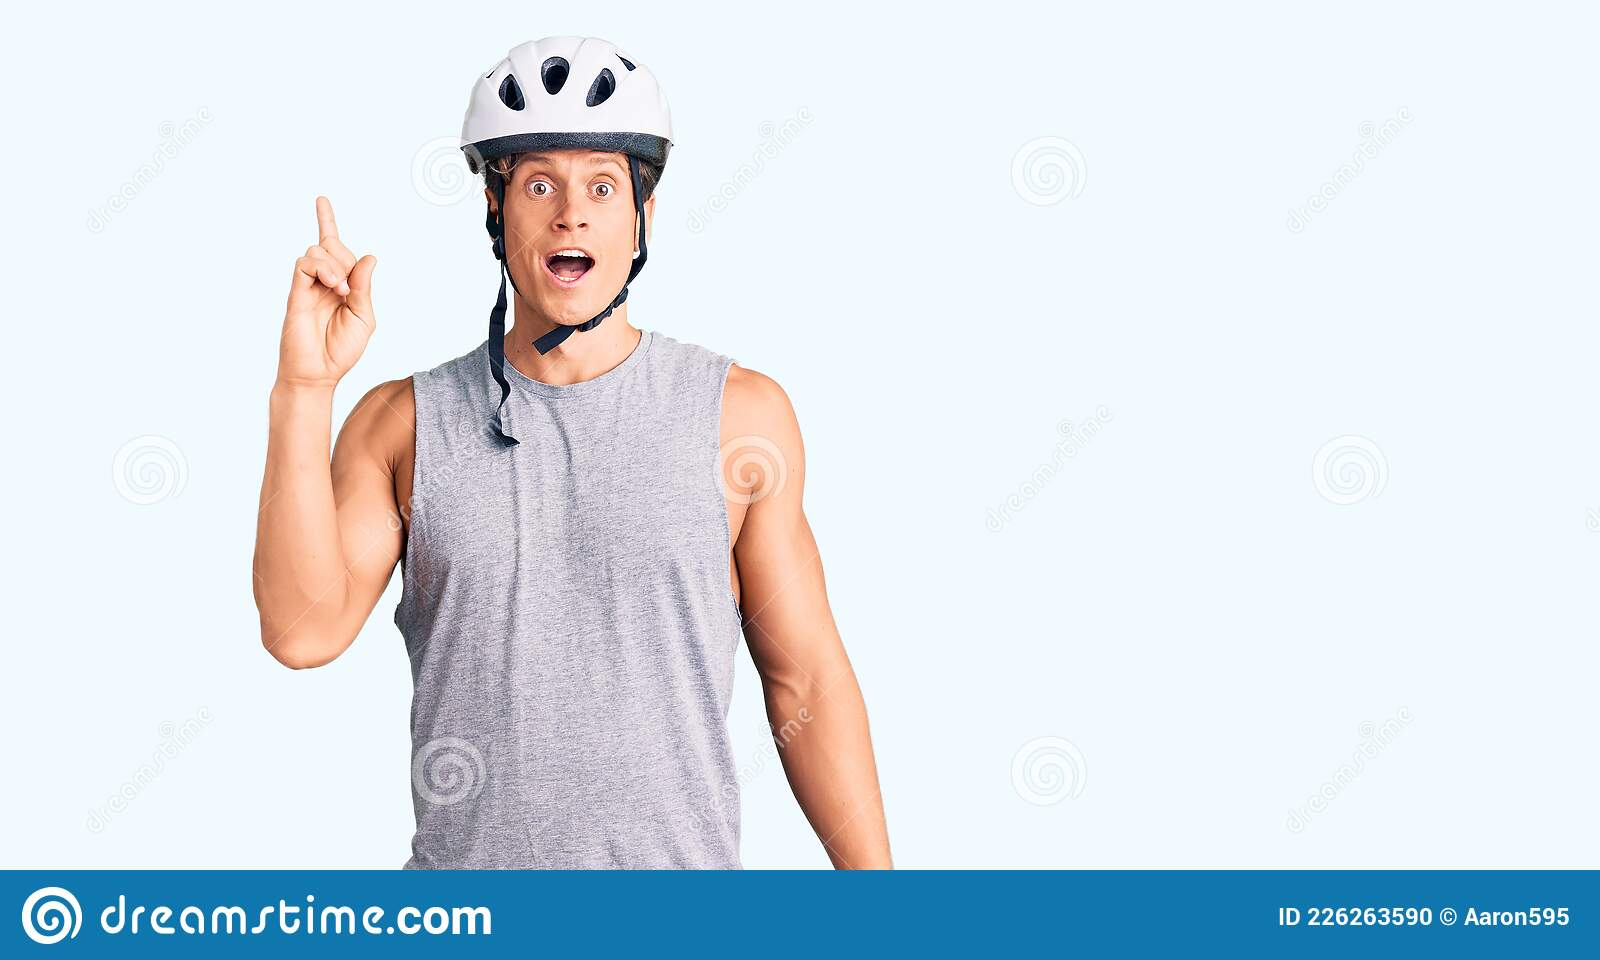helmet: (461, 37, 672, 327)
